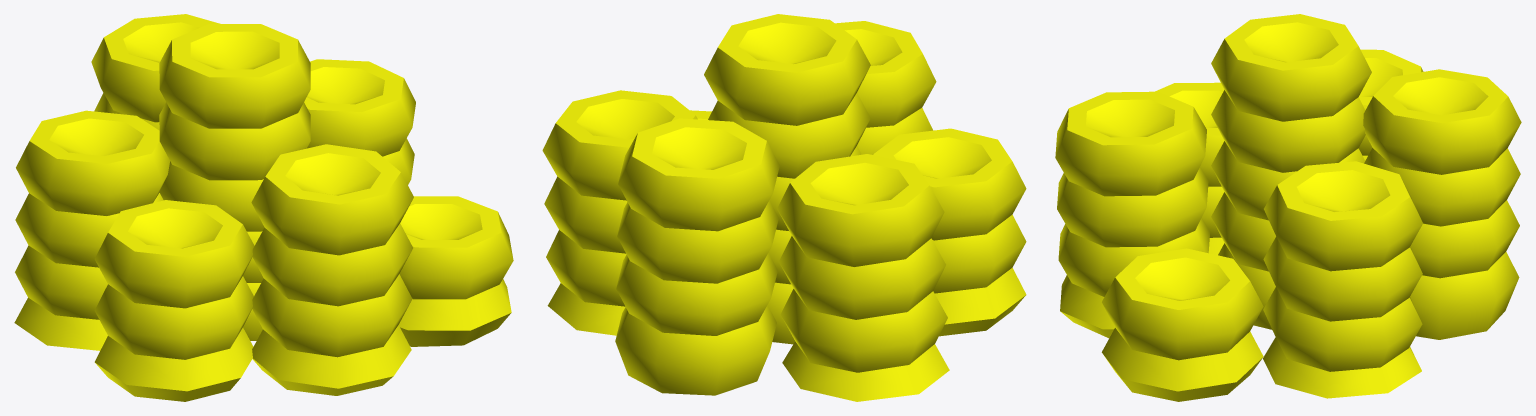
File: kaykit-coin-stack-medium.glb
3 views of the same model, side by side, from view 1: azimuth 30°, elevation 25°; view 2: azimuth 150°, elevation 25°; view 3: azimuth 270°, elevation 25° (orthographic). The views are drawn at different scales.
Parts seen in each view (by area): view 1: coin_stack_medium; view 2: coin_stack_medium; view 3: coin_stack_medium.
Boxes of the visible parts, box(x1,y1,x2,y2) form: coin_stack_medium: box(14, 14, 513, 401); coin_stack_medium: box(542, 14, 1026, 401); coin_stack_medium: box(1055, 14, 1521, 401).
Size of the model in its own units: 0.9933 by 0.6407 by 1.03.
